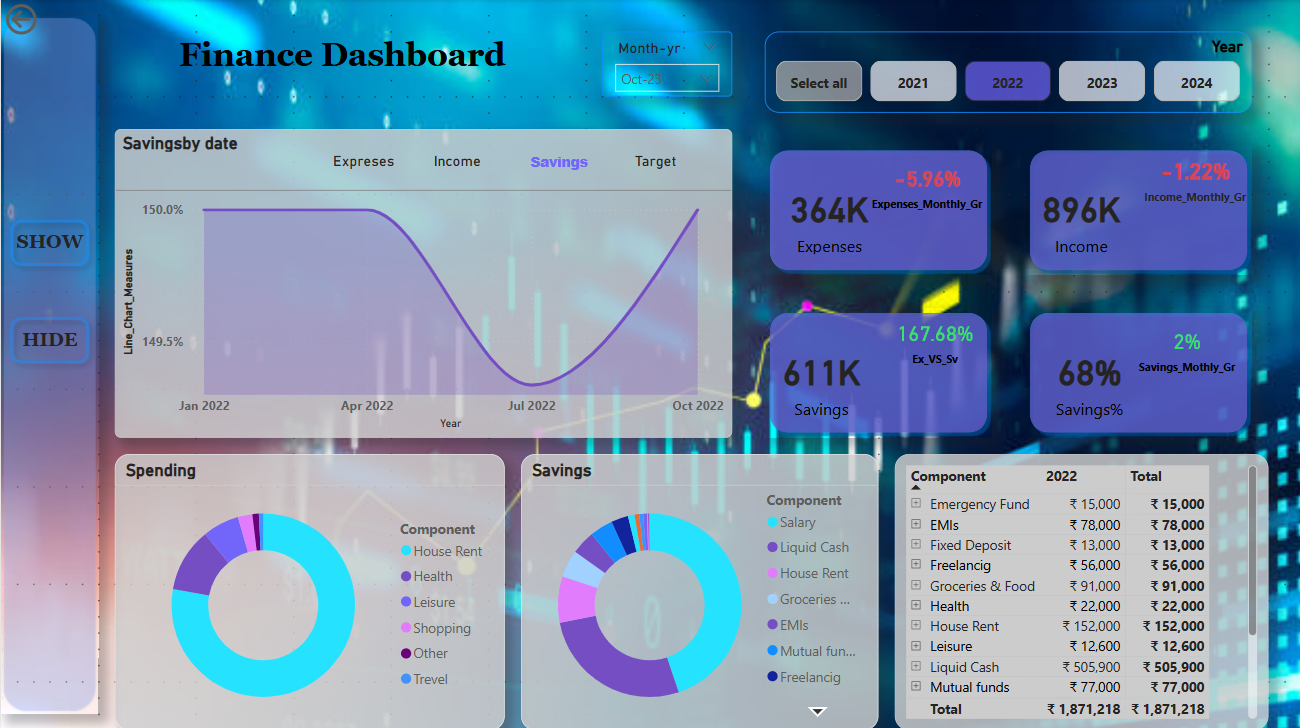

This screenshot's page, from the dashboard's own definition file:
{"tool":"powerbi","page":{"name":"HOME","canvas":[1280,720],"ordinal":0},"visuals":[{"type":"shape","box":[1008,304,224,128],"z":0},{"type":"shape","box":[752,144,224,128],"z":1000},{"type":"shape","box":[1008,144,224,128],"z":2000},{"type":"shape","box":[752,304,224,128],"z":3000},{"type":"lineChart","fields":{"Y":["dataset.Line_Chart_Measures"],"Category":["dataset.date.Variation.Date Hierarchy.Year","dataset.date.Variation.Date Hierarchy.Quarter","dataset.date.Variation.Date Hierarchy.Month","dataset.date.Variation.Date Hierarchy.Day"]},"box":[112,128,608,304],"z":4000},{"type":"card","fields":{"Values":["dataset.Expenses"]},"box":[768,176,96,80],"z":5000},{"type":"card","fields":{"Values":["dataset.Income"]},"box":[1008,176,112,80],"z":6000},{"type":"card","fields":{"Values":["dataset.Savings"]},"box":[736,320,144,112],"z":7000},{"type":"card","fields":{"Values":["dataset.Savings%"]},"box":[1008,320,128,112],"z":8000},{"type":"advancedSlicerVisual","fields":{"Values":["dataset.Year"]},"box":[752,32,480,80],"z":9000},{"type":"donutChart","title":"Savings","fields":{"Category":["dataset.Component"],"Y":["dataset.Total_value"]},"box":[512,448,352,272],"z":10000},{"type":"donutChart","title":"Spending","fields":{"Category":["dataset.Component"],"Y":["dataset.Expenses"]},"box":[112,448,384,272],"z":11000},{"type":"pivotTable","fields":{"Values":["dataset.Total_value"],"Rows":["dataset.Component","dataset.Type"],"Columns":["dataset.Year"]},"box":[880,448,368,272],"z":12000},{"type":"advancedSlicerVisual","fields":{"Values":["Line_Selection_Table.Type"]},"box":[304,144,400,32],"z":13000},{"type":"textbox","box":[96,32,480,48],"z":14000},{"type":"shape","box":[0,16,96,688],"z":15000},{"type":"actionButton","box":[0,0,100,40],"z":16000},{"type":"card","fields":{"Values":["dataset.Expenses_Motnhly_Gr"]},"box":[848,144,128,80],"z":17000},{"type":"slicer","fields":{"Values":["Selected_Date.Month-yr"]},"box":[592,32,128,64],"z":18000},{"type":"card","fields":{"Values":["dataset.Savings_Mothly_Gr"]},"box":[1104,304,128,80],"z":19000},{"type":"card","fields":{"Values":["dataset.Ex_VS_Sv"]},"box":[864,304,112,64],"z":20000},{"type":"textbox","box":[0,224,96,48],"z":21000},{"type":"actionButton","box":[0,208,96,64],"z":22000},{"type":"textbox","box":[0,320,96,32],"z":23000},{"type":"actionButton","box":[0,304,96,64],"z":24000},{"type":"card","fields":{"Values":["dataset.Income_Monthly_Gr"]},"box":[1120,144,112,64],"z":25000}]}

Visuals, with their boxes in screenshot pixels (x1, y1, x2, y2), scaled from the page's 1280x720 canvas onto the 1300x728 screenshot:
shape: region(1024, 307, 1251, 437)
shape: region(764, 146, 991, 275)
shape: region(1024, 146, 1251, 275)
shape: region(764, 307, 991, 437)
lineChart - dataset.Line_Chart_Measures x dataset.date.Variation.Date Hierarchy.Year: region(114, 129, 731, 437)
card - dataset.Expenses: region(780, 178, 878, 259)
card - dataset.Income: region(1024, 178, 1138, 259)
card - dataset.Savings: region(748, 324, 894, 437)
card - dataset.Savings%: region(1024, 324, 1154, 437)
advancedSlicerVisual - dataset.Year: region(764, 32, 1251, 113)
"Savings" donutChart: region(520, 453, 878, 727)
"Spending" donutChart: region(114, 453, 504, 727)
pivotTable - dataset.Total_value x dataset.Component: region(894, 453, 1268, 727)
advancedSlicerVisual - Line_Selection_Table.Type: region(309, 146, 715, 178)
textbox: region(98, 32, 585, 81)
shape: region(0, 16, 98, 712)
actionButton: region(0, 0, 102, 40)
card - dataset.Expenses_Motnhly_Gr: region(861, 146, 991, 226)
slicer - Selected_Date.Month-yr: region(601, 32, 731, 97)
card - dataset.Savings_Mothly_Gr: region(1121, 307, 1251, 388)
card - dataset.Ex_VS_Sv: region(878, 307, 991, 372)
textbox: region(0, 226, 98, 275)
actionButton: region(0, 210, 98, 275)
textbox: region(0, 324, 98, 356)
actionButton: region(0, 307, 98, 372)
card - dataset.Income_Monthly_Gr: region(1138, 146, 1251, 210)
